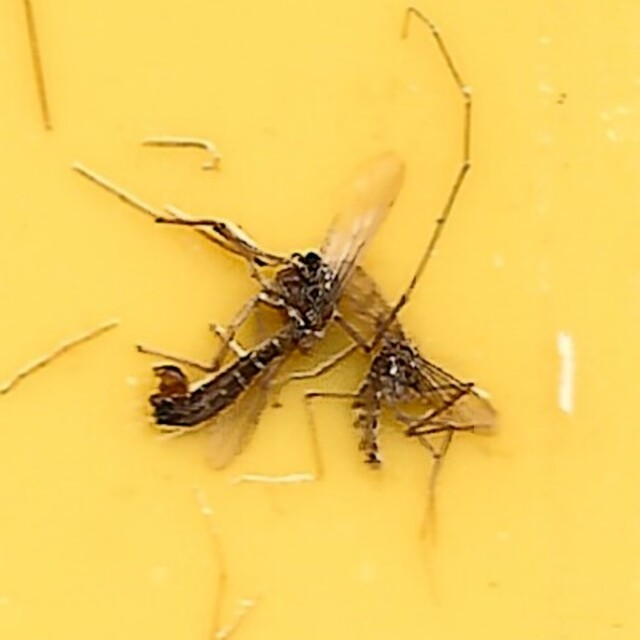Nematocera: (133, 148, 404, 443), (317, 251, 507, 492)
